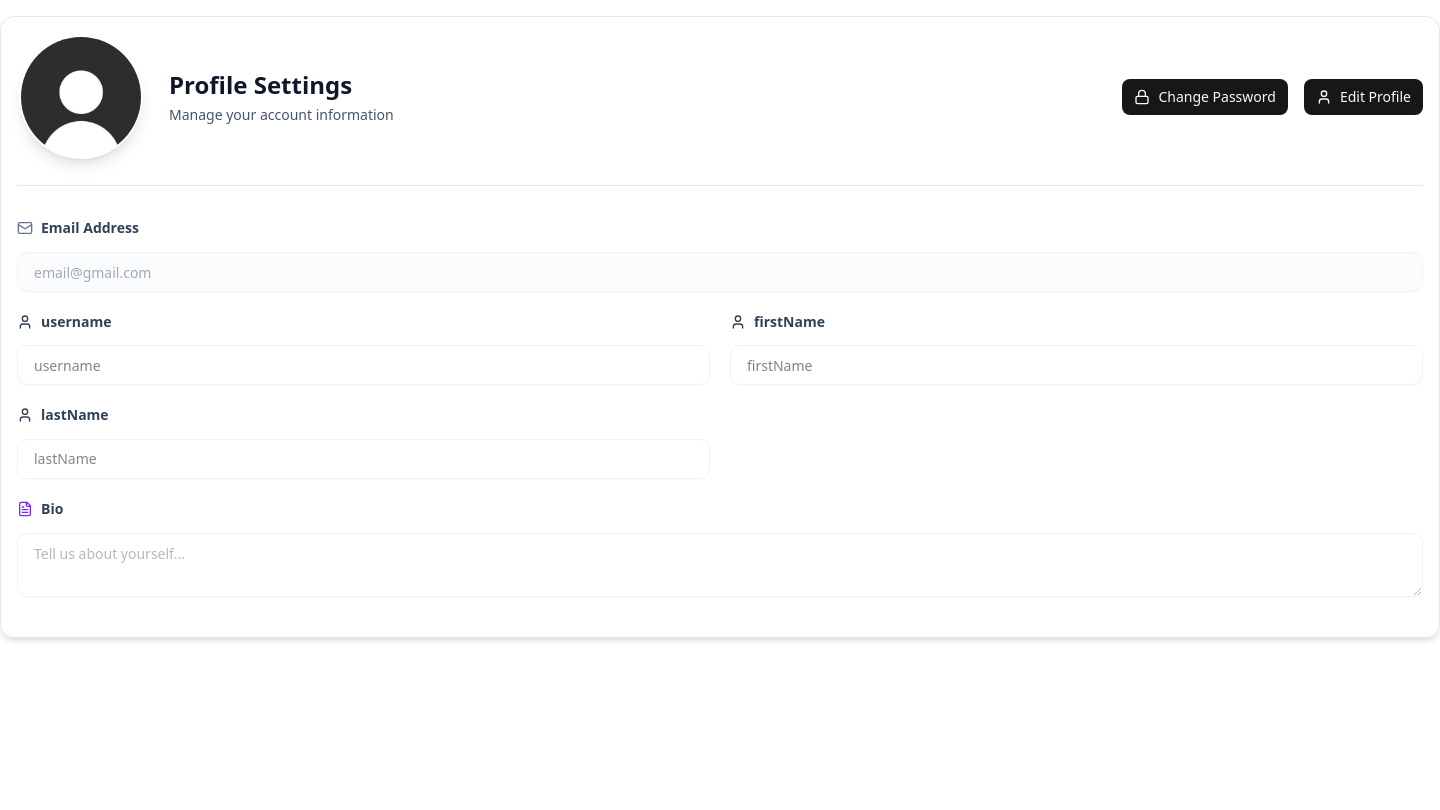
it:  › hitting cancel should make the dialog disappear
Click the button "Change Password" at (1205, 97), box 1122,79 -> 1288,115
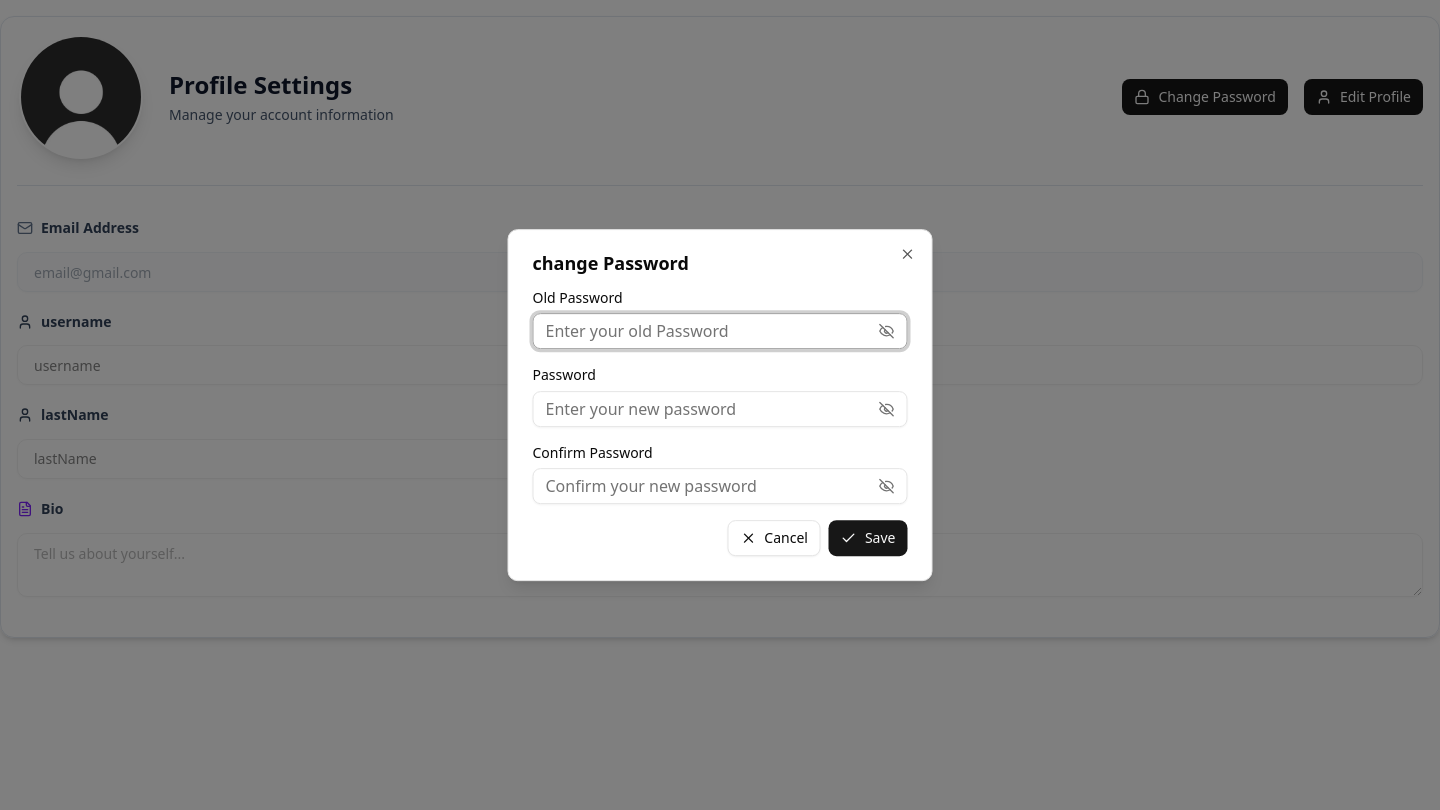
Click the button "Cancel" at (774, 538), box 727,520 -> 821,556
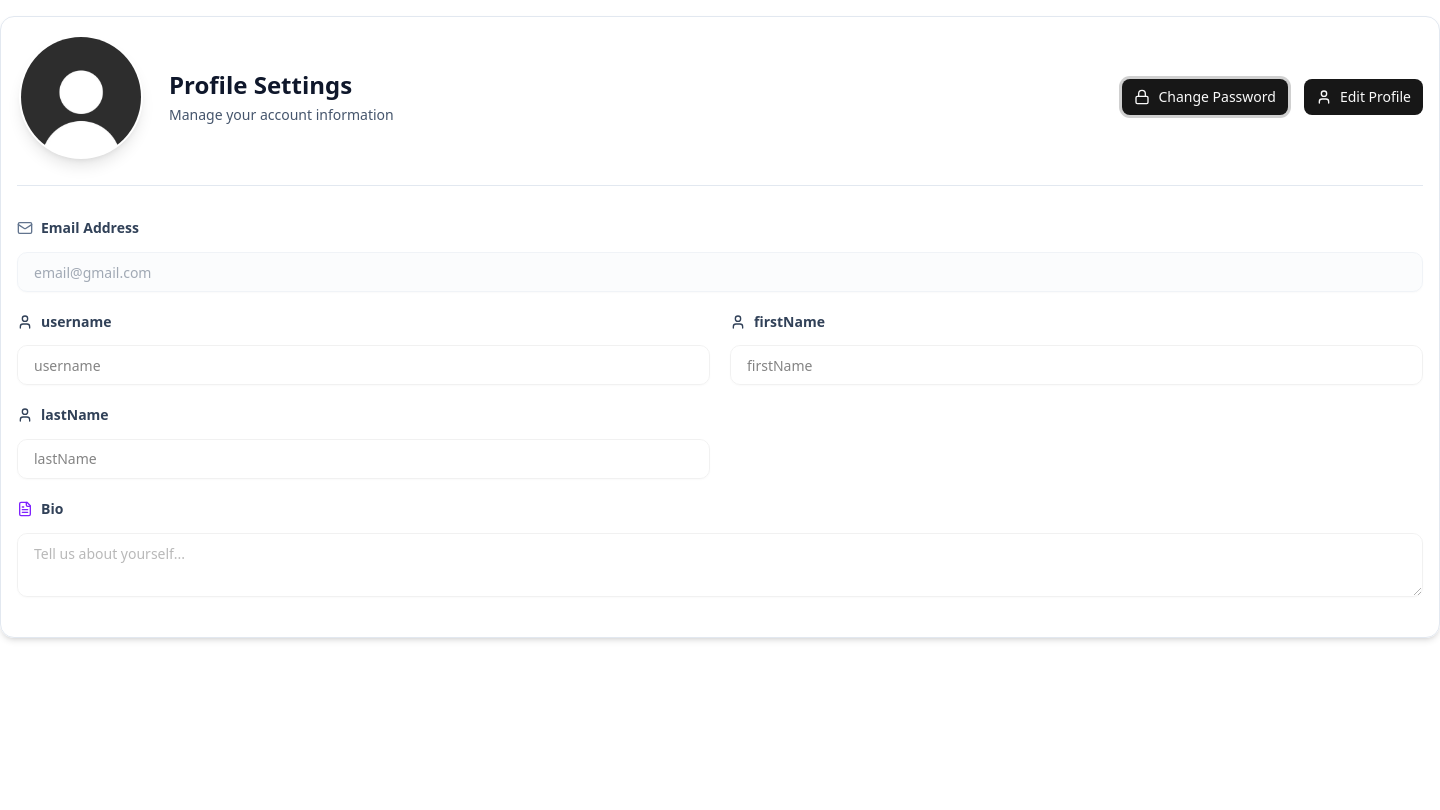
Check: the label labelled "Old Password" is gone
Check: the label labelled "Confirm Password" is gone
